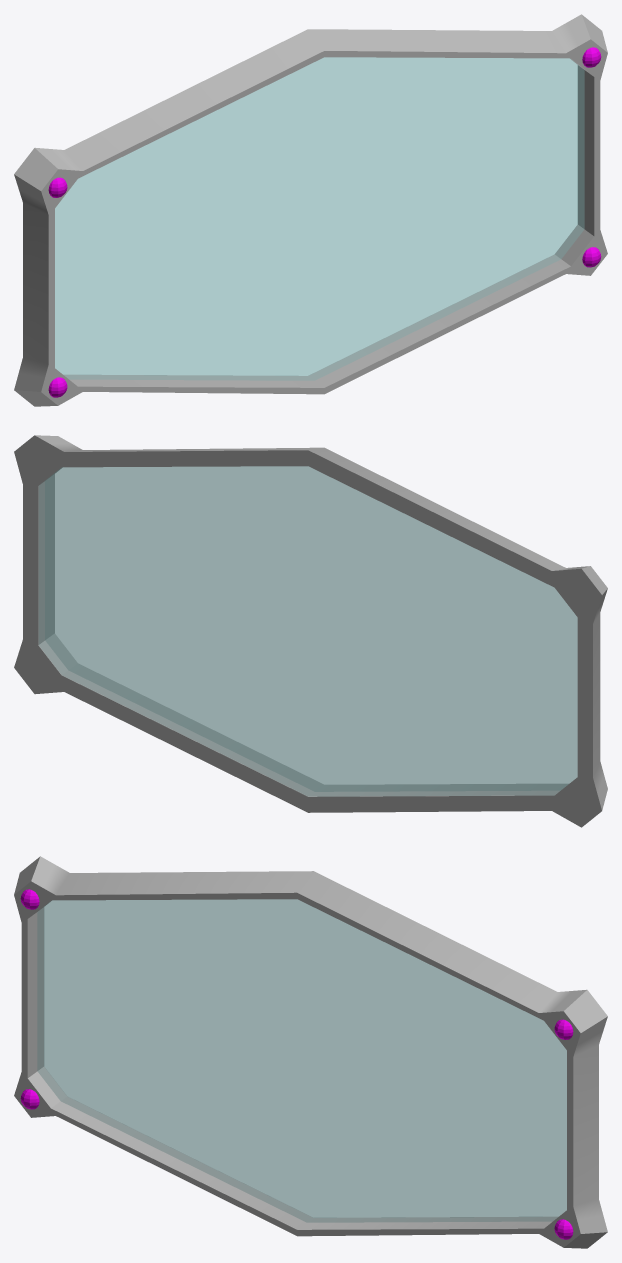
File: GAME3040 - Base Panel.fbx
The picture shows the model from 3 angles, top to bottom: view 1: azimuth 30°, elevation 25°; view 2: azimuth 150°, elevation 25°; view 3: azimuth 330°, elevation 25°; orthographic projection.
Parts seen in each view (by area): view 1: Panel_Screen, Panel_Base; view 2: Panel_Screen, Panel_Base; view 3: Panel_Screen, Panel_Base.
Boxes of the visible parts, bbox=[...] form: Panel_Screen: bbox=[55, 57, 584, 380]; Panel_Base: bbox=[14, 14, 607, 406]; Panel_Screen: bbox=[39, 466, 577, 796]; Panel_Base: bbox=[14, 435, 607, 827]; Panel_Screen: bbox=[37, 899, 566, 1222]; Panel_Base: bbox=[14, 856, 607, 1248].
Bounding box in the file's own units: 10.29 × 6.06 × 0.6164.
